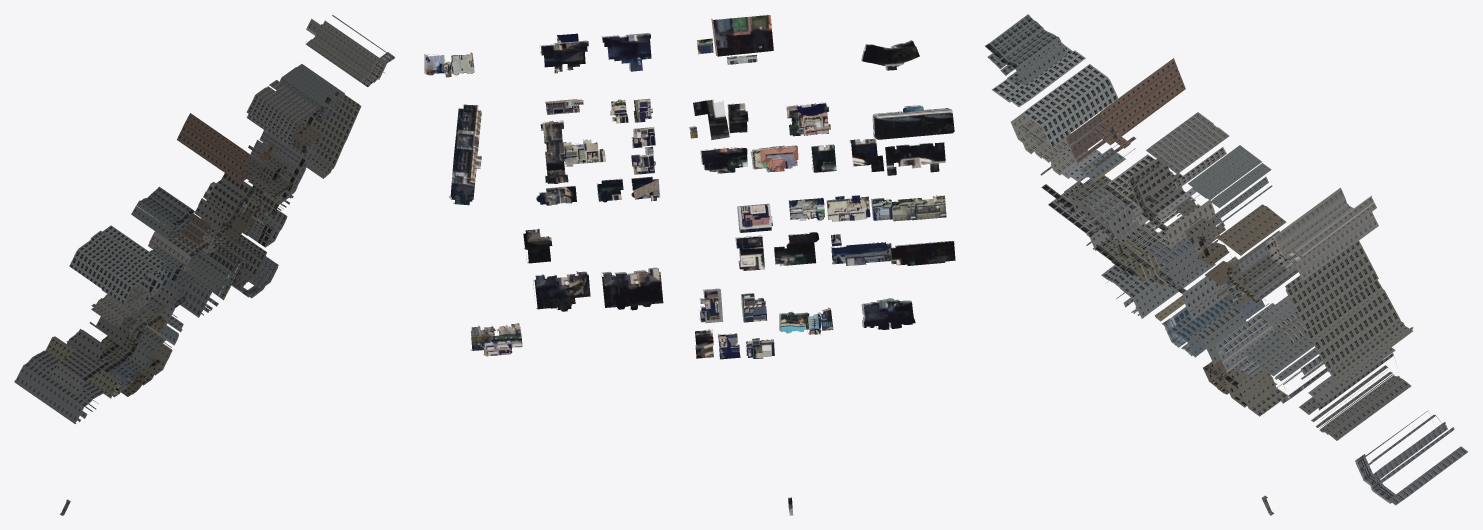
File: tile_LOD8_r1_c6.glb
The picture shows the model from 3 angles, left to right: view 1: azimuth 30°, elevation 25°; view 2: azimuth 150°, elevation 25°; view 3: azimuth 270°, elevation 25°; orthographic projection. The views are drawn at different scales.
Bounding box in the file's own units: 331 × 314 × 259.
258 materials, 258 textured.
